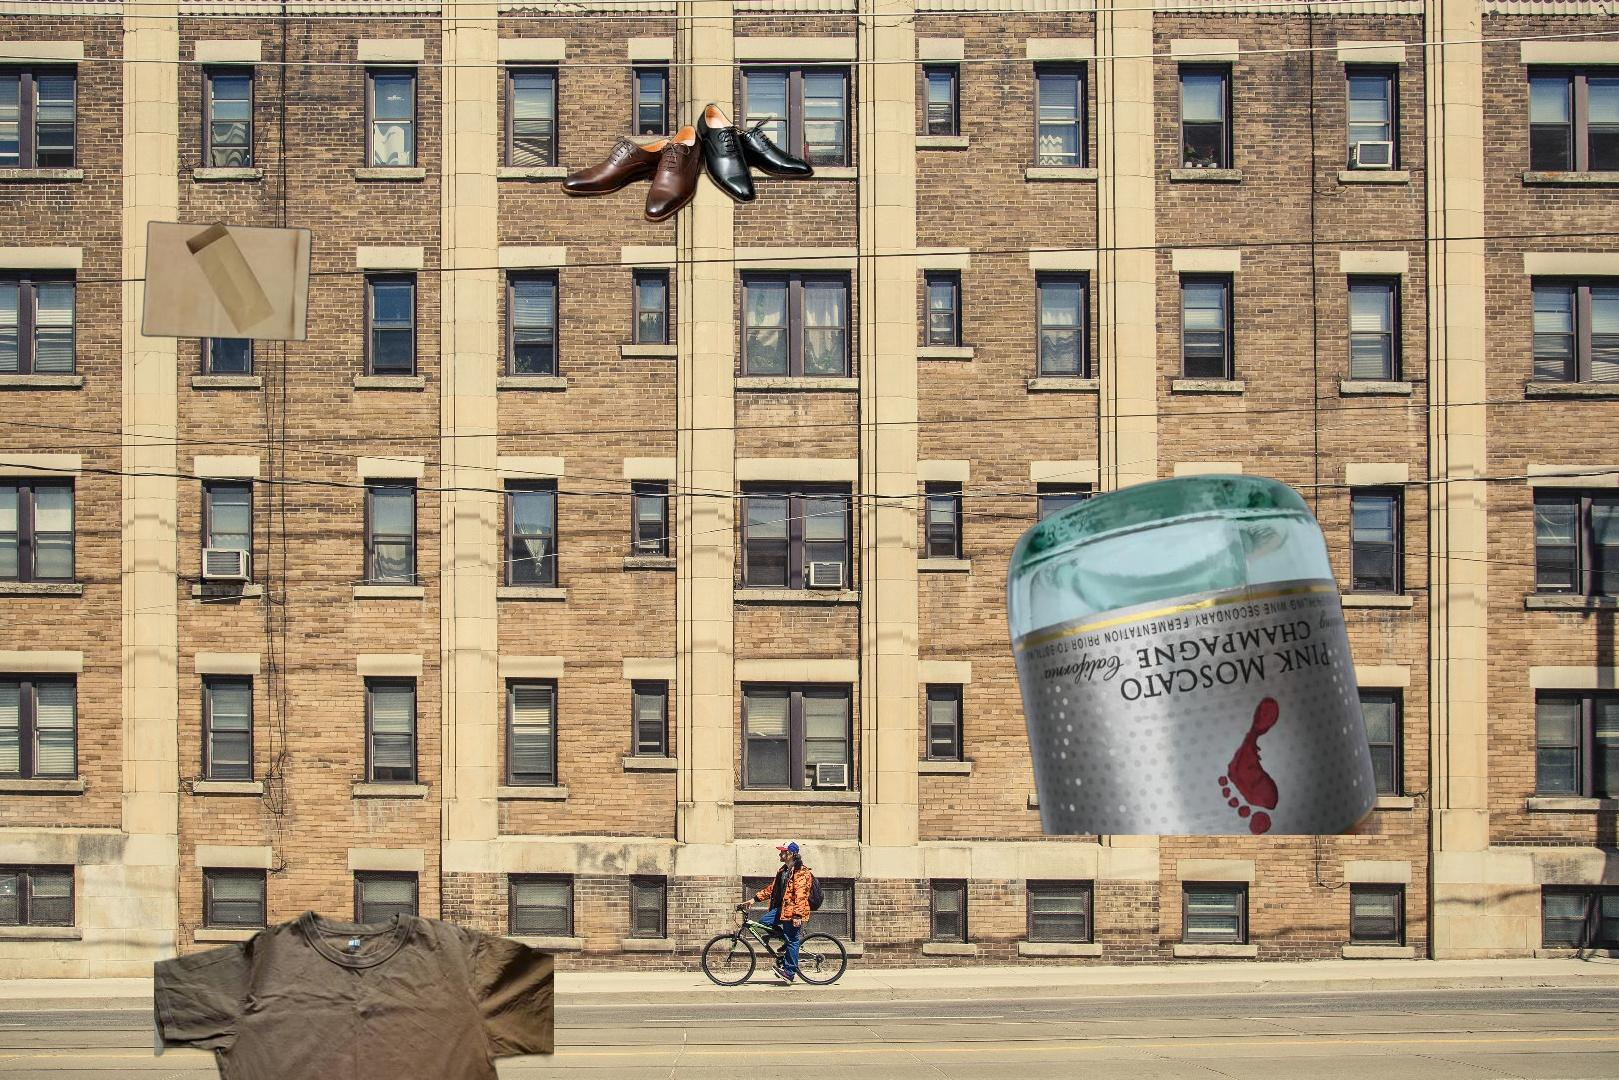clothes: (154, 905, 555, 1080)
glass: (1002, 470, 1383, 835)
paper-bag: (139, 221, 313, 344)
shoes: (558, 98, 817, 225)
